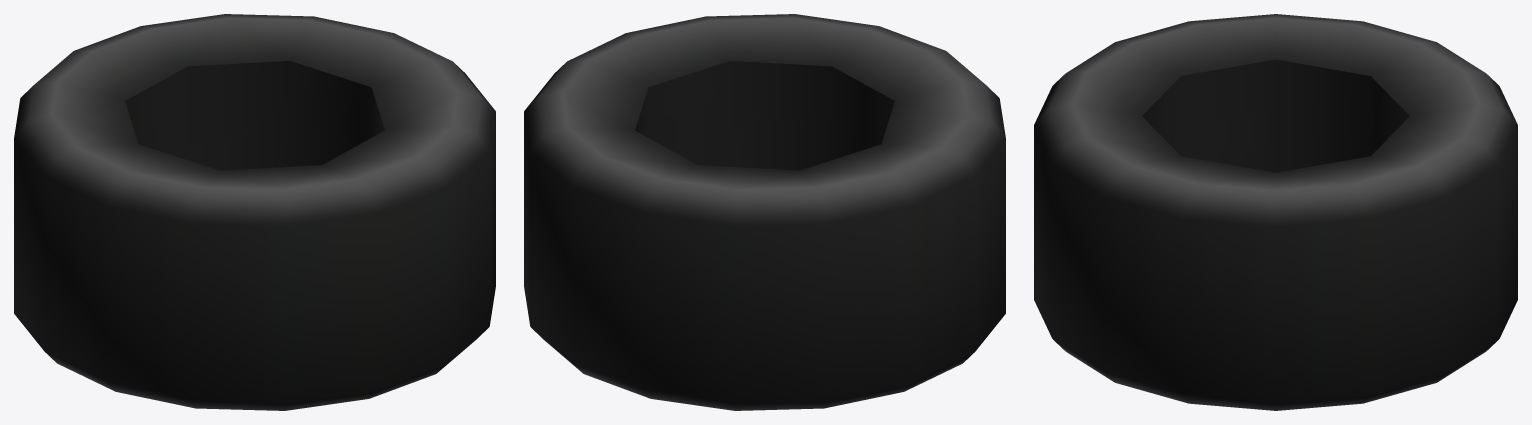
The model's file is Impact_Tire_1A.fbx.
3 views of the same model, side by side, from view 1: azimuth 30°, elevation 25°; view 2: azimuth 150°, elevation 25°; view 3: azimuth 270°, elevation 25° (orthographic).
Parts seen in each view (by area): view 1: Impact_Tire_1A; view 2: Impact_Tire_1A; view 3: Impact_Tire_1A.
Boxes of the visible parts, x1,y1,x2,y2 form: Impact_Tire_1A: [14, 14, 495, 410]; Impact_Tire_1A: [524, 14, 1005, 410]; Impact_Tire_1A: [1034, 14, 1517, 410].
Bounding box in the file's own units: 1.01 × 0.5 × 1.01.
